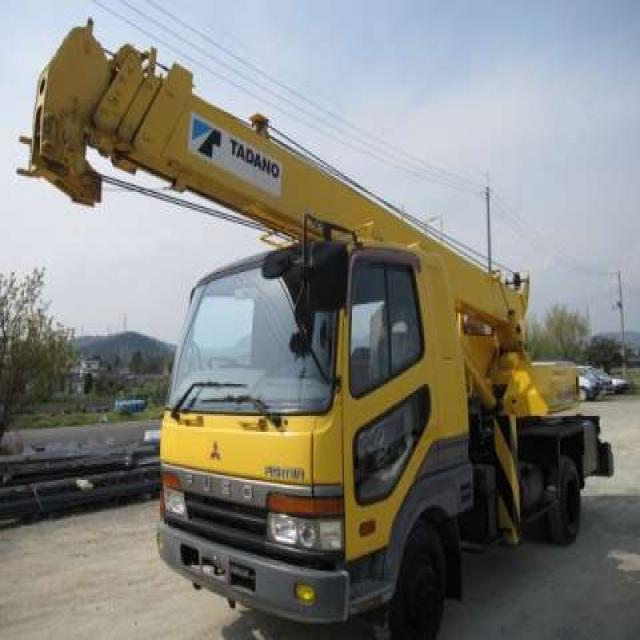truck: (16, 25, 613, 624)
